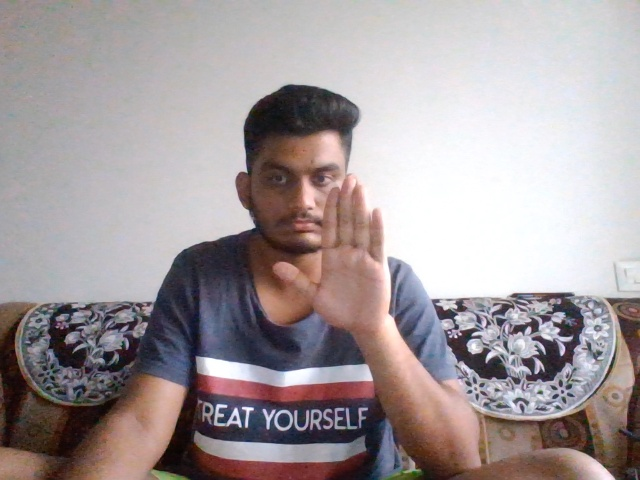Hello: (272, 175, 410, 333)
